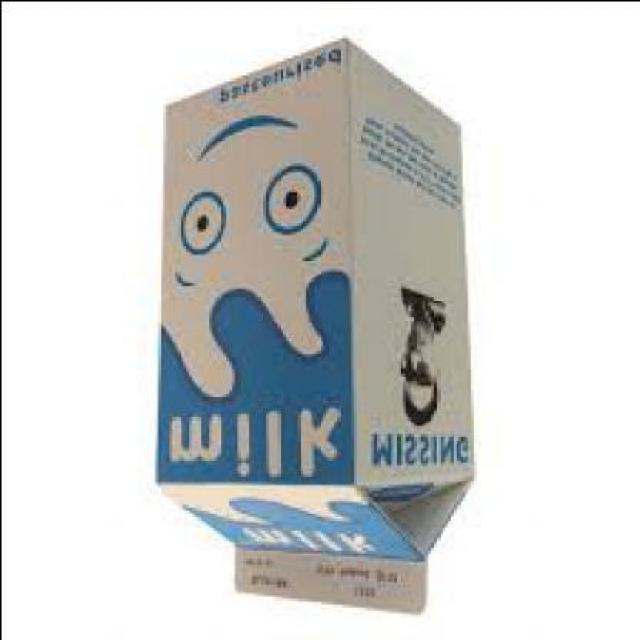box: (154, 37, 469, 620)
